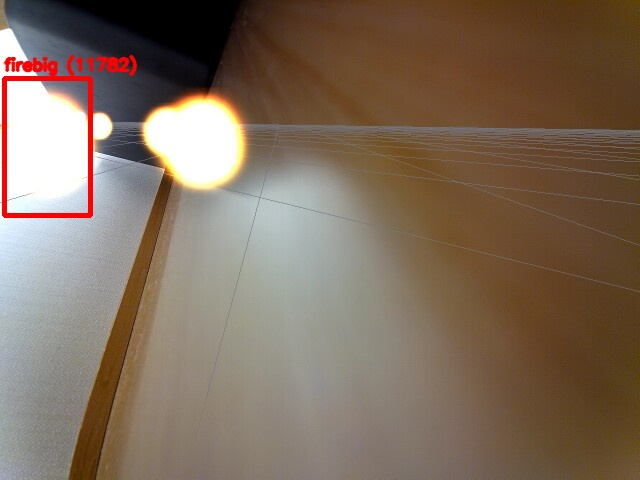firebig: (4, 78, 90, 215)
